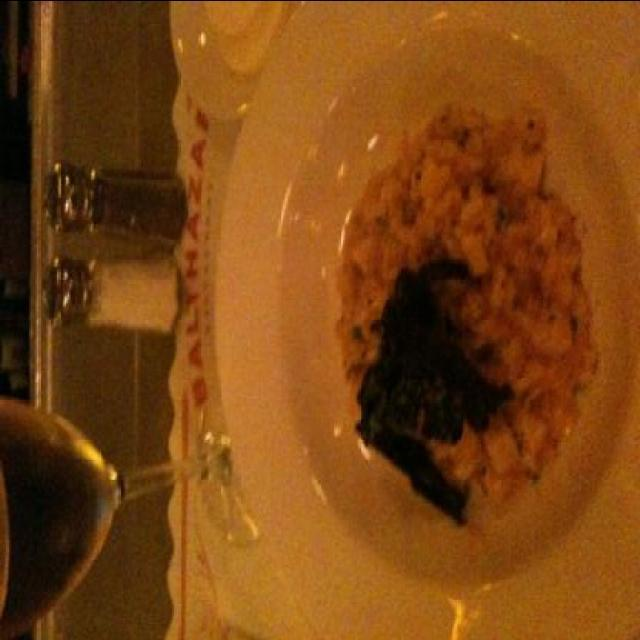Risotto: (338, 87, 580, 490)
